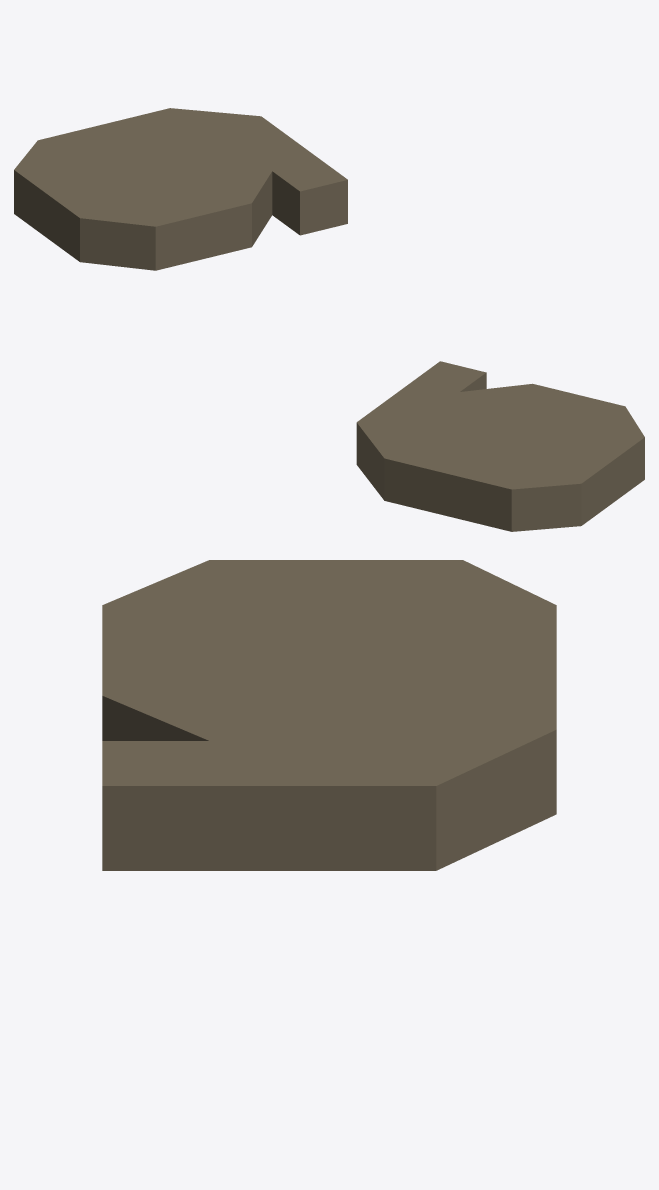
File: section-4.obj
3 renders of one model, top to bottom at view 1: azimuth 30°, elevation 25°; view 2: azimuth 150°, elevation 25°; view 3: azimuth 270°, elevation 25°, orthographic. The views are drawn at different scales.
Size of the model in its own units: 0.5546 by 0.0413 by 0.2006.
